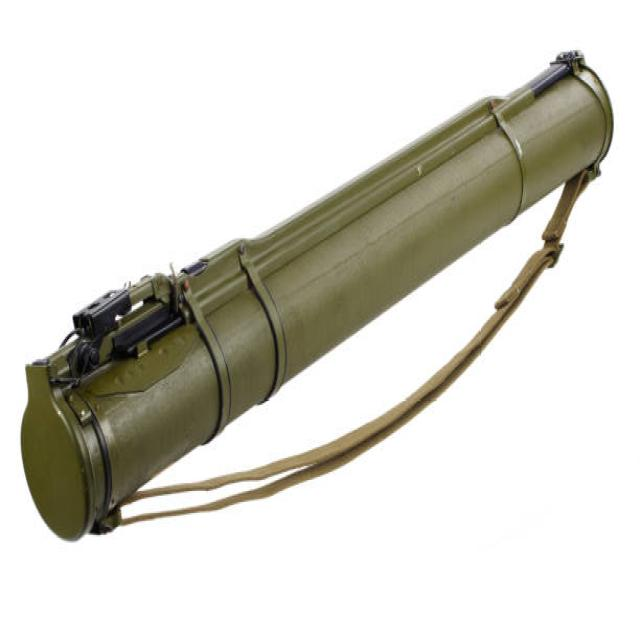bazooka: (11, 35, 617, 551)
